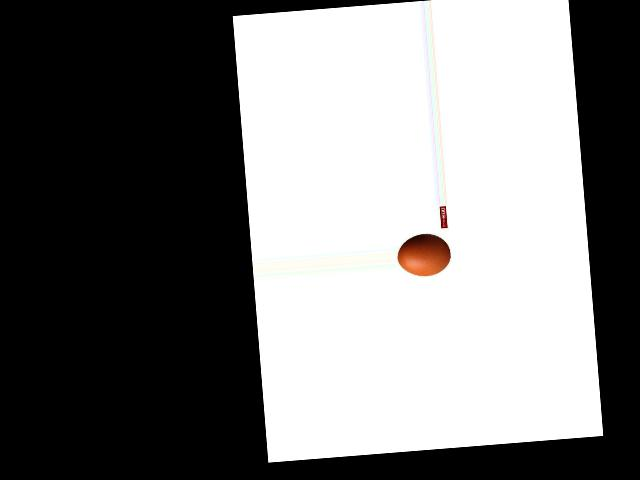egg: (396, 232, 452, 278)
